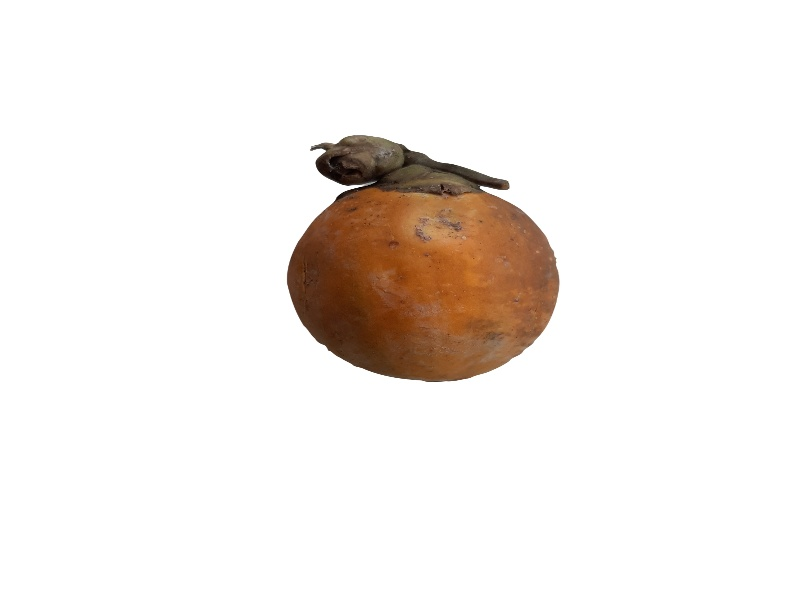arecanut: (281, 176, 574, 386)
